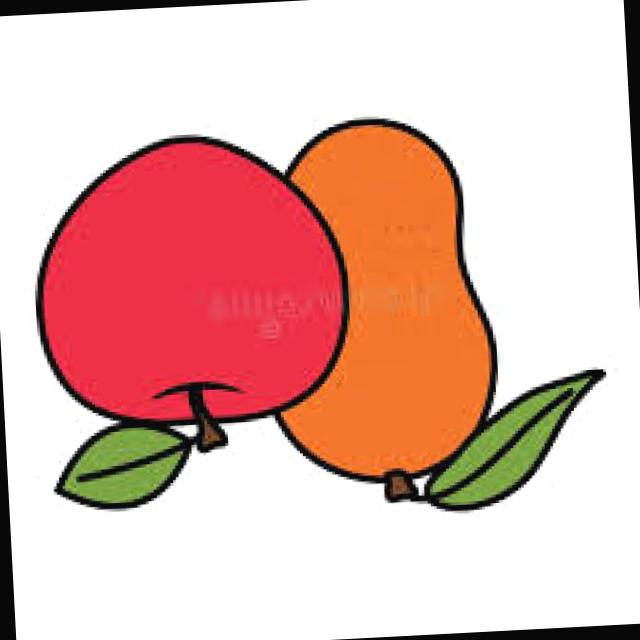Apple: (25, 122, 354, 440)
Mango: (260, 116, 508, 491)
